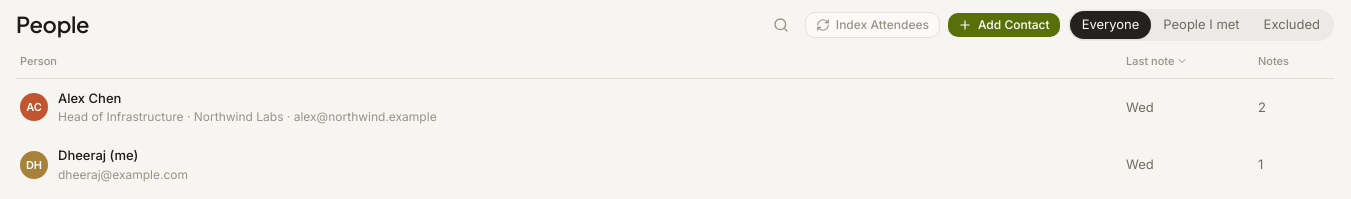
PeoplePage › filters excluded contacts in privacy scope
Expected: the text "Alex Chen" is shown, top-left (58, 90), bottom-right (121, 106)
Expected: the text "Meeting Bot" is not shown
Switch to "Excluded" scope
Click the button "Excluded" at (1292, 24), box top-left (1252, 10), bottom-right (1332, 38)
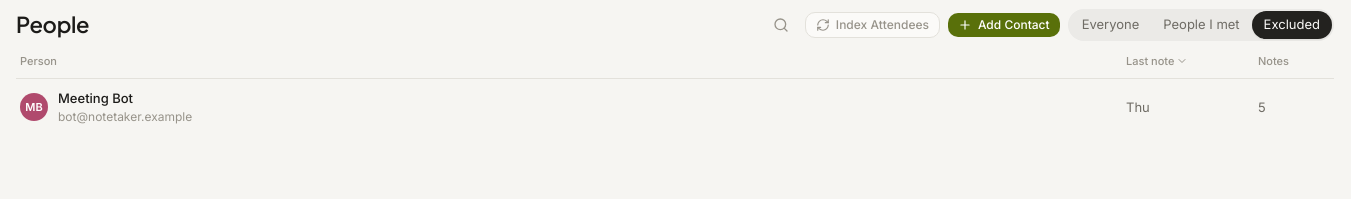
Now the text "Meeting Bot" is shown, box top-left (58, 90), bottom-right (133, 106)
